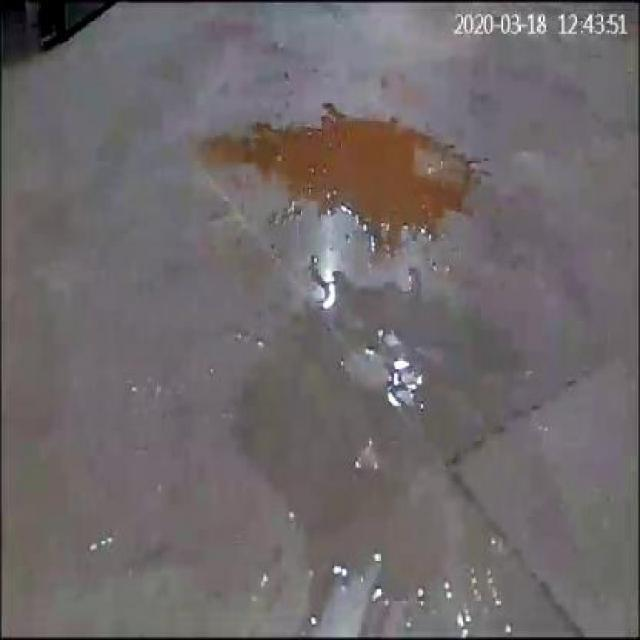spill: (226, 267, 568, 624), (220, 115, 494, 242)
